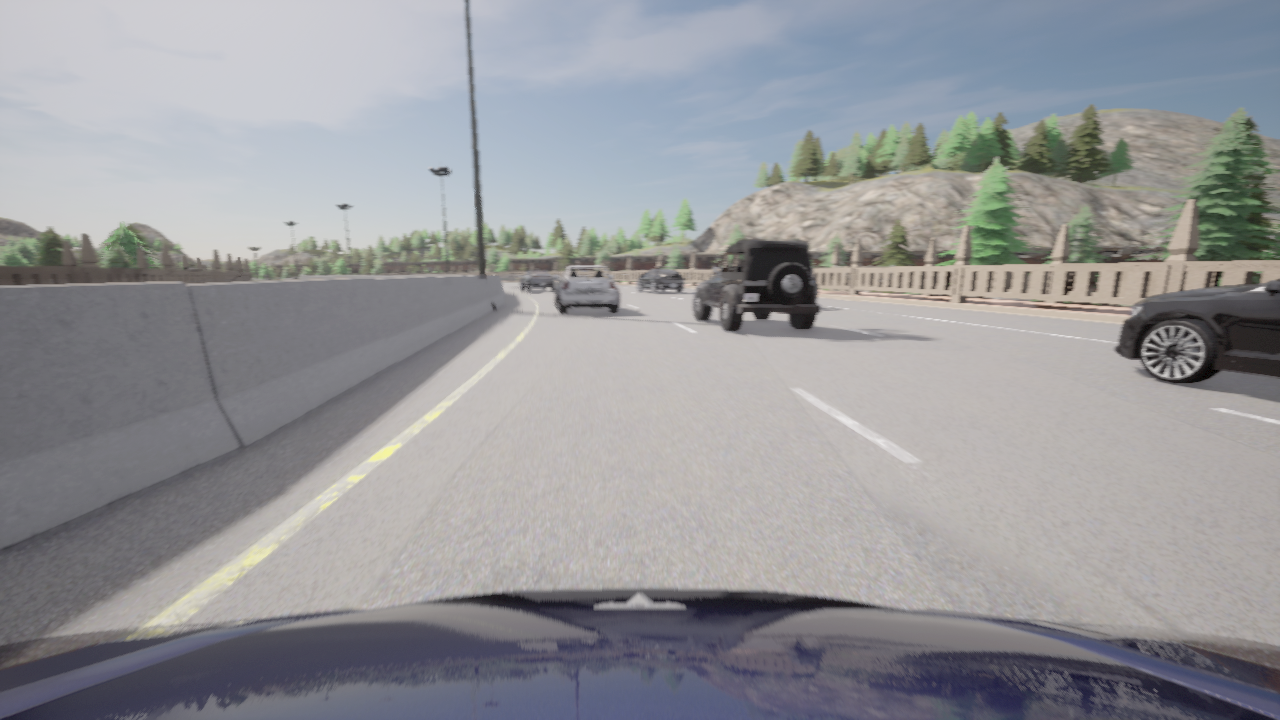cyclist: (0, 588, 1279, 719), (1115, 280, 1279, 384), (693, 240, 821, 331), (554, 265, 619, 314), (637, 269, 683, 293), (520, 270, 554, 292), (815, 284, 817, 294)
pedestrian: (188, 264, 198, 270)
